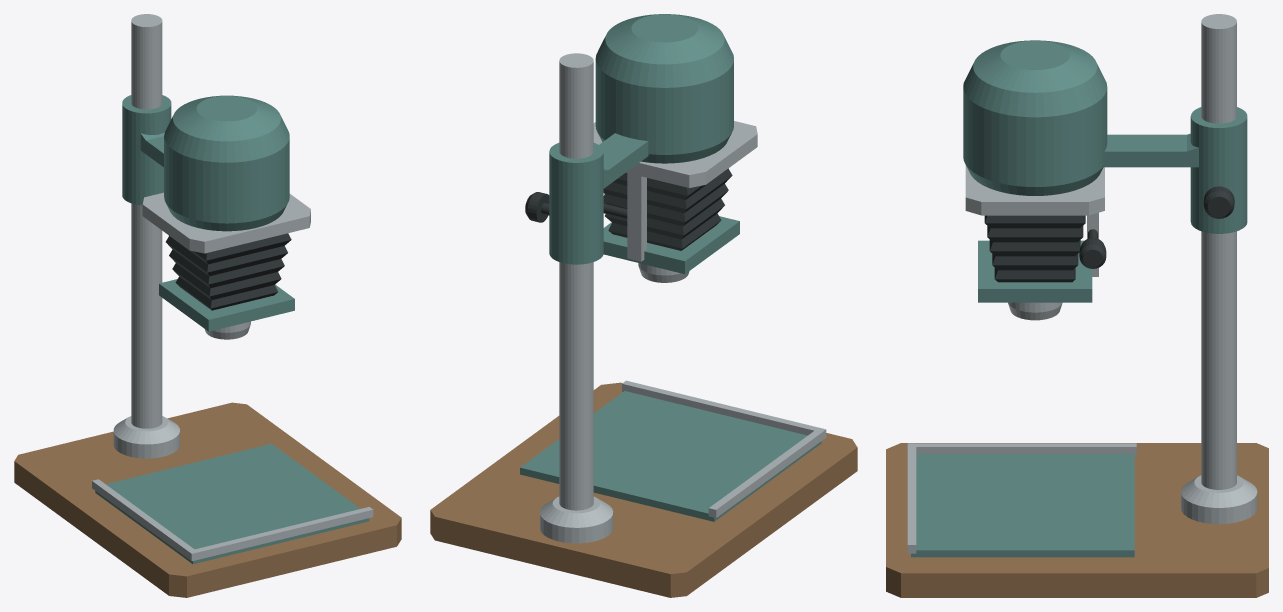
3 renders of one model, left to right at view 1: azimuth 30°, elevation 25°; view 2: azimuth 150°, elevation 25°; view 3: azimuth 270°, elevation 25°, orthographic. The views are drawn at different scales.
Parts seen in each view (by area): view 1: WholeBroadGroundBaseboard, WholeBlankReceivingEaselPlate, WholeBlindInteriorLampHouse, WholeRearFootAndUprightColumn, WholeHangingThickPleatedBellows, WholeUpperPiercedCarrierBoard, WholeFixedColumnSleeve, WholeReceivingEaselLBorder, WholeLowerPiercedLensBoard, WholeForwardLampHeadSupport; view 2: WholeBroadGroundBaseboard, WholeBlankReceivingEaselPlate, WholeBlindInteriorLampHouse, WholeRearFootAndUprightColumn, WholeFixedColumnSleeve, WholeHangingThickPleatedBellows, WholeReceivingEaselLBorder, WholeUpperPiercedCarrierBoard, WholeLowerPiercedLensBoard, WholeRearBellowsFocusGuide, WholeForwardLampHeadSupport, WholeColumnSleeveClampKnob (+1 smaller); view 3: WholeBroadGroundBaseboard, WholeBlankReceivingEaselPlate, WholeBlindInteriorLampHouse, WholeRearFootAndUprightColumn, WholeHangingThickPleatedBellows, WholeFixedColumnSleeve, WholeUpperPiercedCarrierBoard, WholeReceivingEaselLBorder, WholeLowerPiercedLensBoard, WholeForwardLampHeadSupport, WholeDownwardAnnularLensBarrel, WholeColumnSleeveClampKnob (+1 smaller).
Boxes of the visible parts, left/top/right/bottom form: WholeBroadGroundBaseboard: left=14, top=402, right=401, bottom=597; WholeBlankReceivingEaselPlate: left=95, top=443, right=369, bottom=564; WholeBlindInteriorLampHouse: left=164, top=95, right=289, bottom=231; WholeRearFootAndUprightColumn: left=113, top=14, right=179, bottom=458; WholeHangingThickPleatedBellows: left=166, top=233, right=291, bottom=310; WholeUpperPiercedCarrierBoard: left=142, top=192, right=310, bottom=253; WholeFixedColumnSleeve: left=122, top=95, right=171, bottom=205; WholeReceivingEaselLBorder: left=92, top=479, right=373, bottom=561; WholeLowerPiercedLensBoard: left=159, top=279, right=294, bottom=331; WholeForwardLampHeadSupport: left=140, top=132, right=164, bottom=167; WholeBroadGroundBaseboard: left=430, top=382, right=857, bottom=597; WholeBlankReceivingEaselPlate: left=520, top=391, right=821, bottom=521; WholeBlindInteriorLampHouse: left=595, top=14, right=733, bottom=163; WholeRearFootAndUprightColumn: left=540, top=53, right=613, bottom=543; WholeFixedColumnSleeve: left=549, top=143, right=603, bottom=264; WholeHangingThickPleatedBellows: left=603, top=168, right=732, bottom=250; WholeReceivingEaselLBorder: left=622, top=380, right=826, bottom=517; WholeUpperPiercedCarrierBoard: left=593, top=121, right=757, bottom=187; WholeLowerPiercedLensBoard: left=603, top=216, right=739, bottom=274; WholeRearBellowsFocusGuide: left=627, top=173, right=646, bottom=261; WholeForwardLampHeadSupport: left=599, top=133, right=648, bottom=188; WholeColumnSleeveClampKnob: left=525, top=192, right=549, bottom=222; WholeBroadGroundBaseboard: left=886, top=443, right=1268, bottom=597; WholeBlankReceivingEaselPlate: left=911, top=454, right=1134, bottom=557; WholeBlindInteriorLampHouse: left=963, top=40, right=1107, bottom=195; WholeRearFootAndUprightColumn: left=1181, top=14, right=1257, bottom=524; WholeHangingThickPleatedBellows: left=984, top=215, right=1085, bottom=282; WholeFixedColumnSleeve: left=1190, top=107, right=1247, bottom=233; WholeUpperPiercedCarrierBoard: left=965, top=165, right=1104, bottom=215; WholeReceivingEaselLBorder: left=907, top=443, right=1136, bottom=553; WholeLowerPiercedLensBoard: left=978, top=240, right=1092, bottom=302; WholeForwardLampHeadSupport: left=1103, top=133, right=1198, bottom=167; WholeDownwardAnnularLensBarrel: left=1008, top=302, right=1062, bottom=320; WholeColumnSleeveClampKnob: left=1203, top=186, right=1234, bottom=218.
Bounding box in the file's own units: 0.62 × 1.13 × 0.77.
